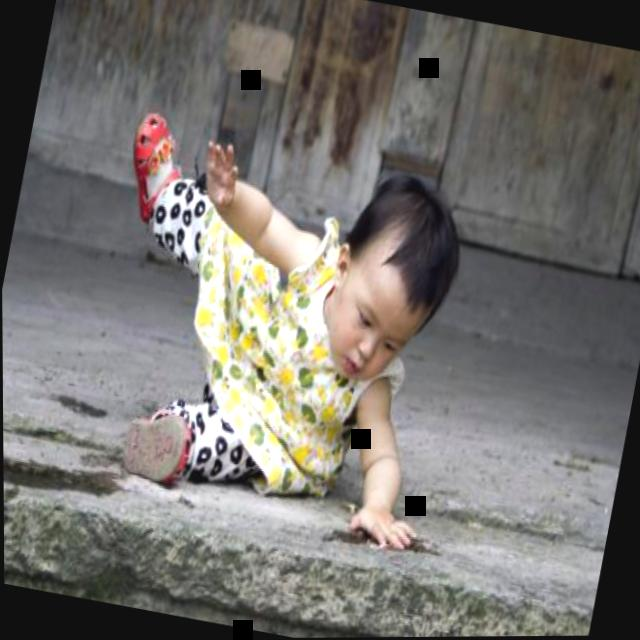Fall-Detected: (46, 73, 505, 558)
